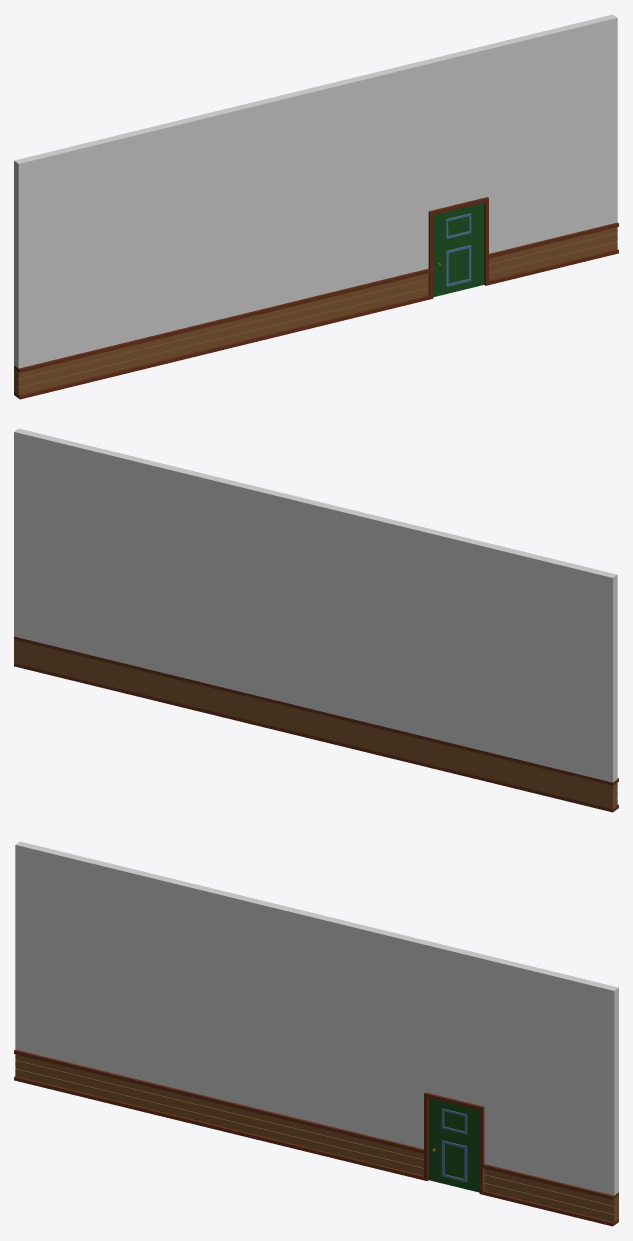
Rendered from Wall_Door.fbx.
3 renders of one model, top to bottom at view 1: azimuth 30°, elevation 25°; view 2: azimuth 150°, elevation 25°; view 3: azimuth 330°, elevation 25°, orthographic.
Visible parts, largest first — view 1: Cube.003; view 2: Cube.003; view 3: Cube.003.
Boxes of the visible parts, box(x1,y1,x2,y2) form: Cube.003: box(14, 14, 618, 399); Cube.003: box(14, 428, 618, 812); Cube.003: box(14, 841, 618, 1226).
Bounding box in the file's own units: 19.05 × 7.13 × 0.3739.
